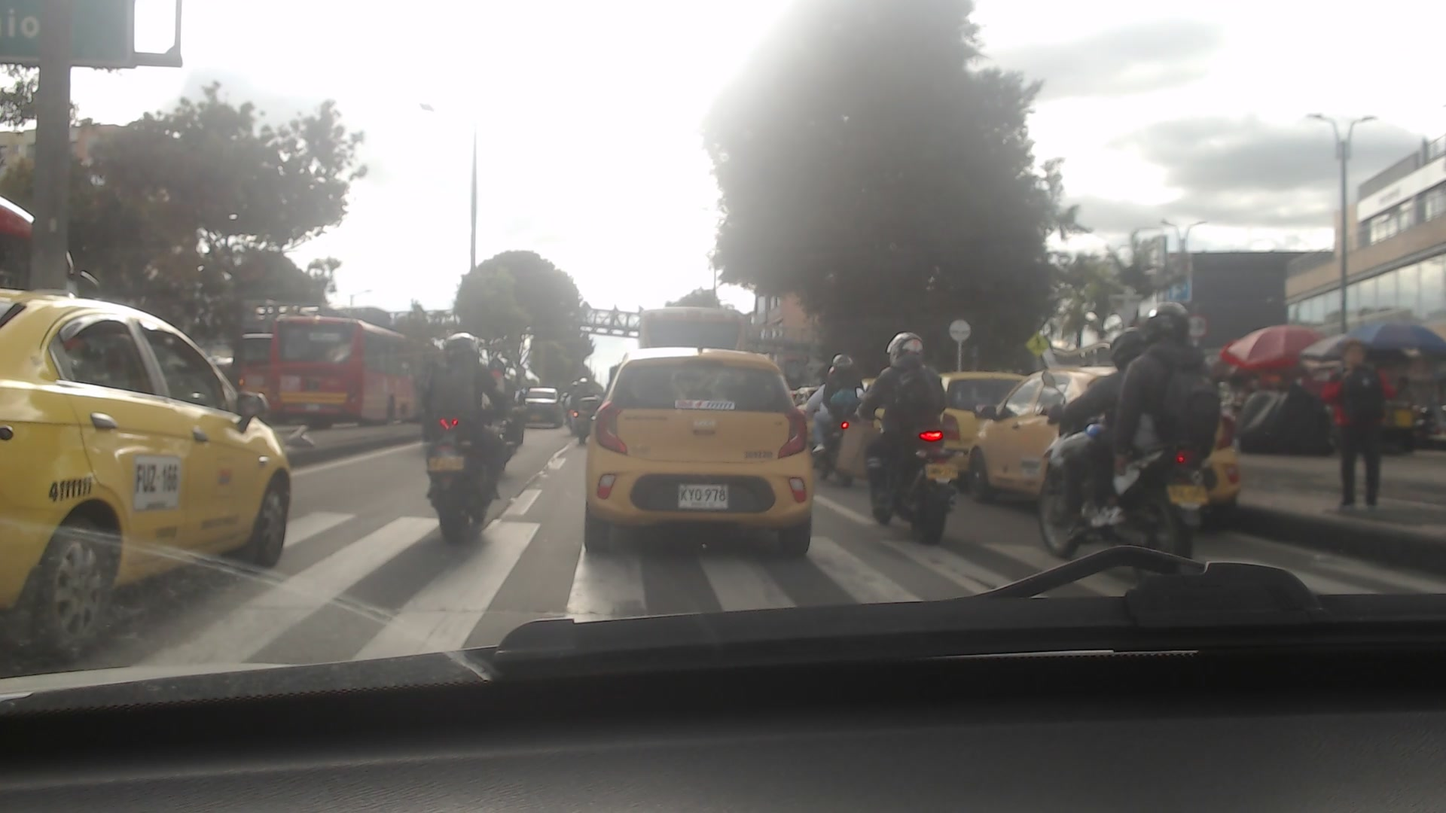bus: (276, 306, 430, 429)
car: (0, 285, 300, 660), (583, 349, 816, 555), (509, 389, 561, 431)
motorcycle: (1015, 419, 1222, 582), (396, 405, 536, 538), (854, 416, 965, 544), (807, 410, 880, 491), (559, 401, 599, 447)
person: (415, 331, 513, 541), (1313, 335, 1399, 518), (1064, 330, 1141, 515), (871, 327, 946, 496), (1136, 305, 1210, 469), (815, 359, 866, 443), (567, 376, 602, 424)
